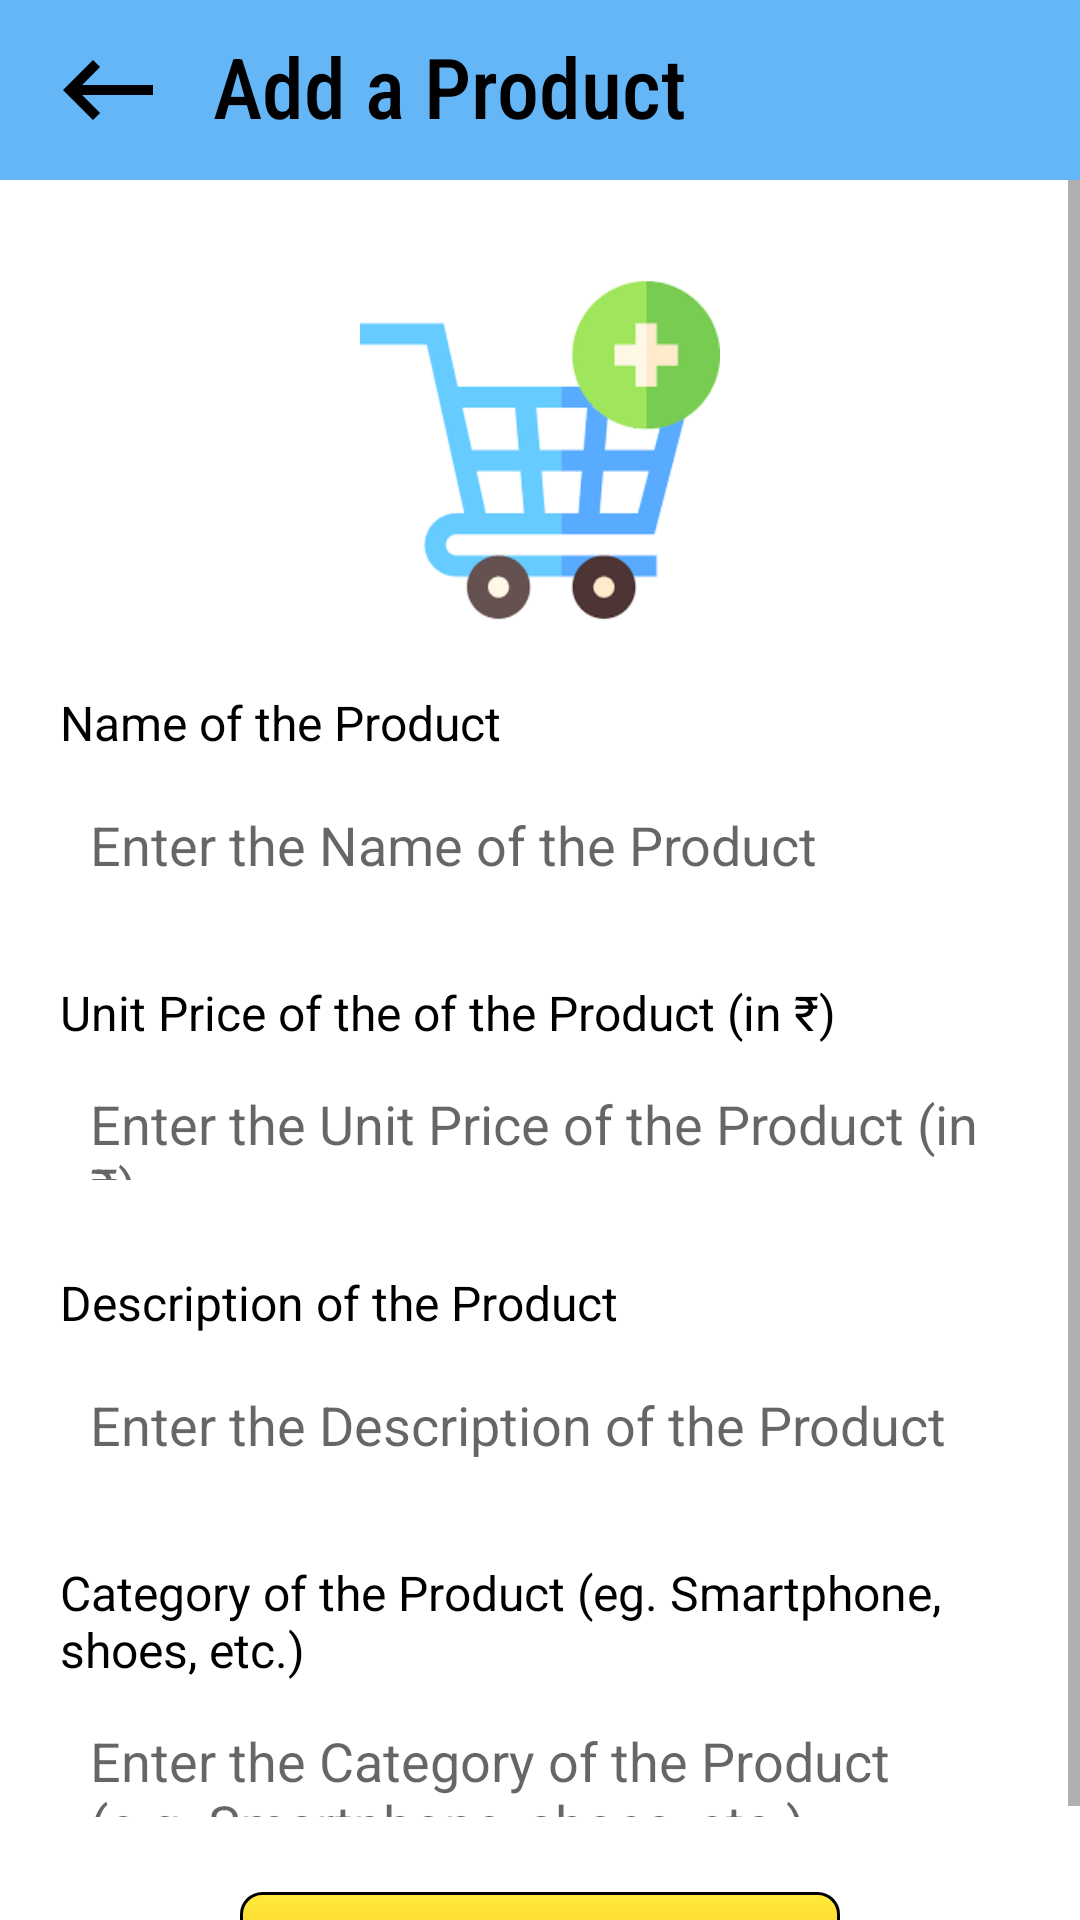

Locate icon controls on the screen. Image size 1080w x 1920h, boxes as (x1, y1, x2, y2).
addprod: (360, 281, 720, 619)
back: (63, 60, 153, 120)
